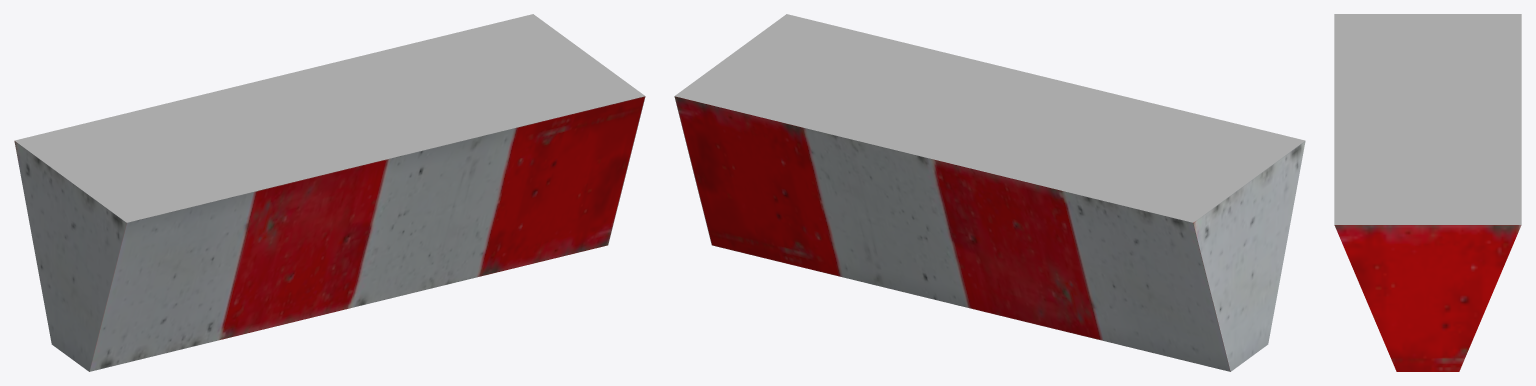
Rendered from Barrier2.obj.
3 views of the same model, side by side, from view 1: azimuth 30°, elevation 25°; view 2: azimuth 150°, elevation 25°; view 3: azimuth 270°, elevation 25° (orthographic). The views are drawn at different scales.
Parts seen in each view (by area): view 1: Object.1; view 2: Object.1; view 3: Object.1.
Part boxes in pixels (left/top/right/bottom): Object.1: left=14, top=14, right=645, bottom=371; Object.1: left=674, top=14, right=1305, bottom=371; Object.1: left=1334, top=14, right=1521, bottom=371.
Bounding box in the file's own units: 267 × 86.67 × 100.
2 materials, 1 textured.
